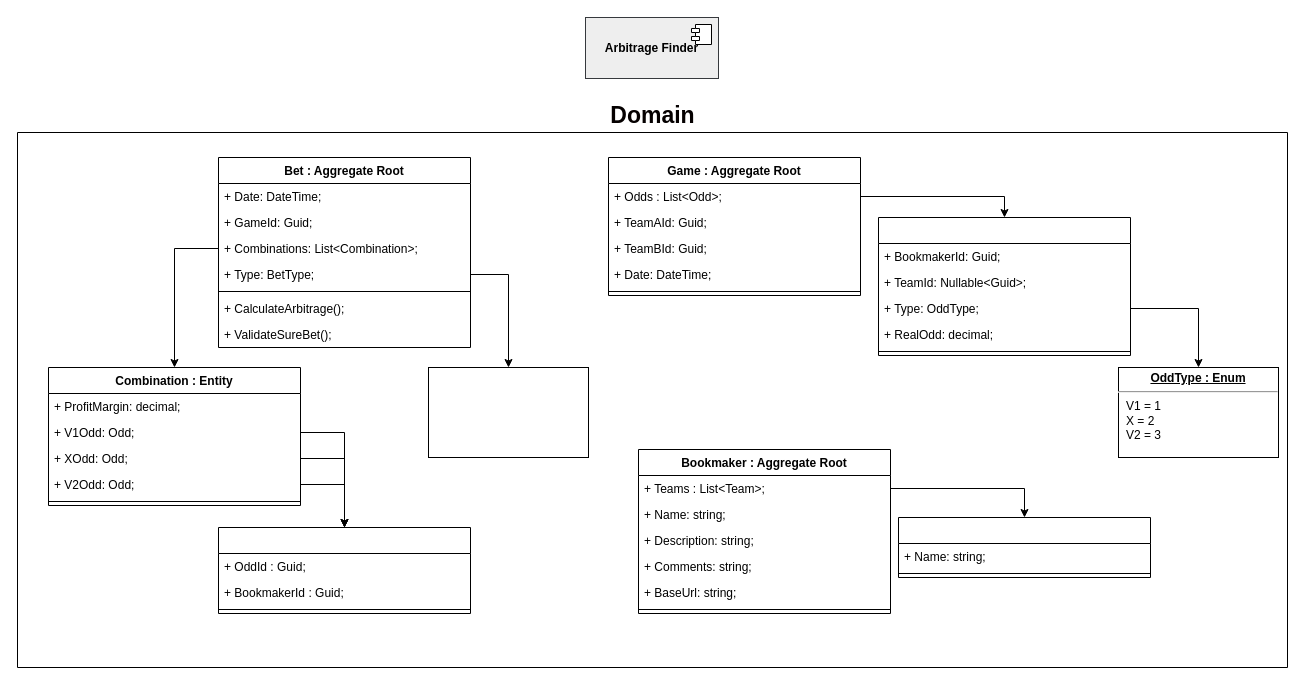
Image size: 1305x685. Some labels were removed from this diagram. Here are the shapes that lost their labels. From the top down, the box of each, then its label:
(878, 216, 1130, 356): Odd : Entity
(428, 366, 588, 458): BetType : Enum 2WayBet = 1 3WayBet = 2
(898, 516, 1150, 578): Team : Entity
(218, 526, 470, 614): Odd : ValueObject
